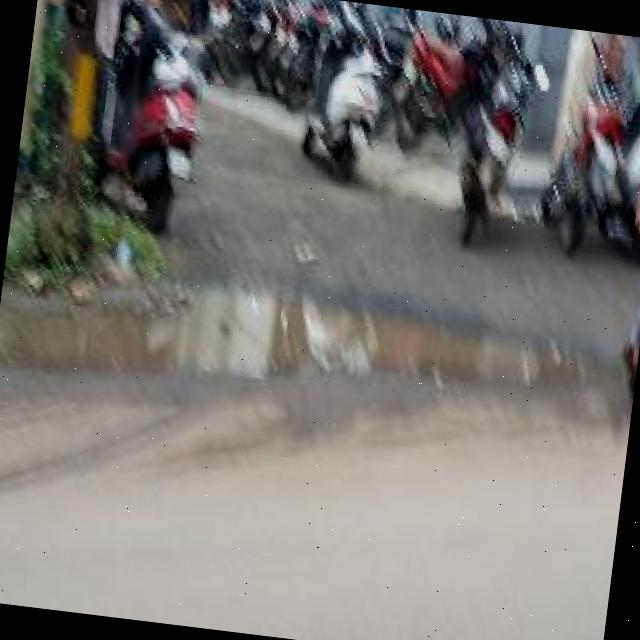stagnation: (0, 229, 585, 443)
